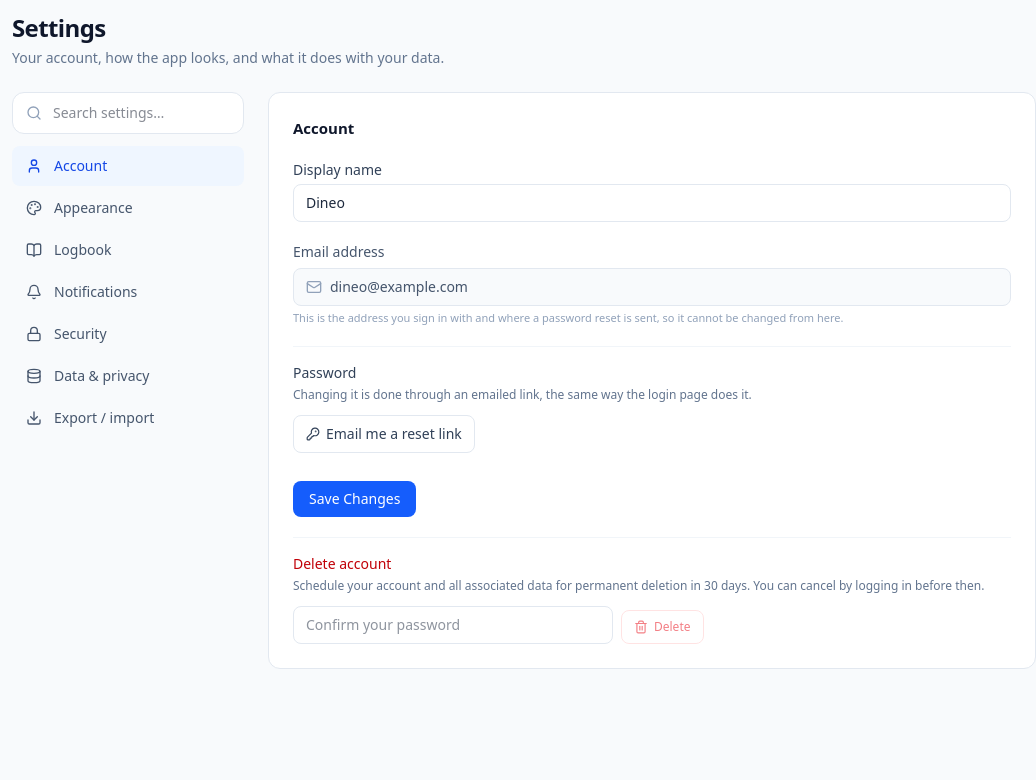
Scenario: SettingsPage — account › schedules the account for deletion with the password
Type "wrong" into the password field with placeholder "Confirm your password" at (453,625), box [293,606,613,644]
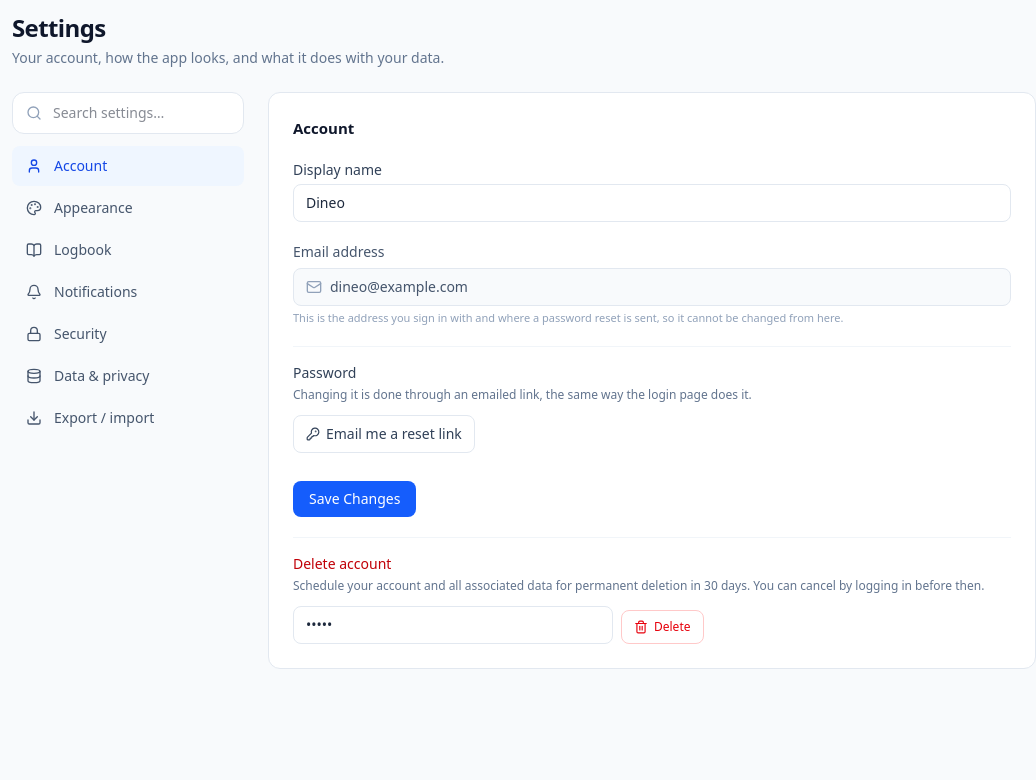
Click the button "Delete" at (662,627), box [621,610,704,644]
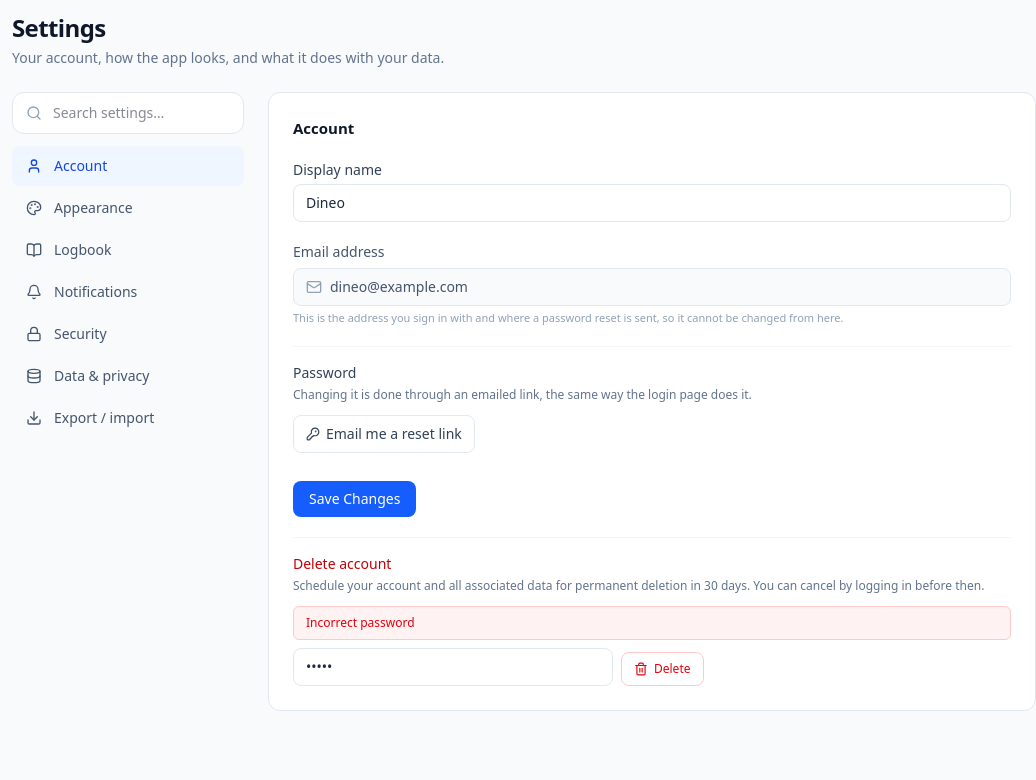
Expected: the text "Incorrect password" is shown, [293,606,1011,640]
